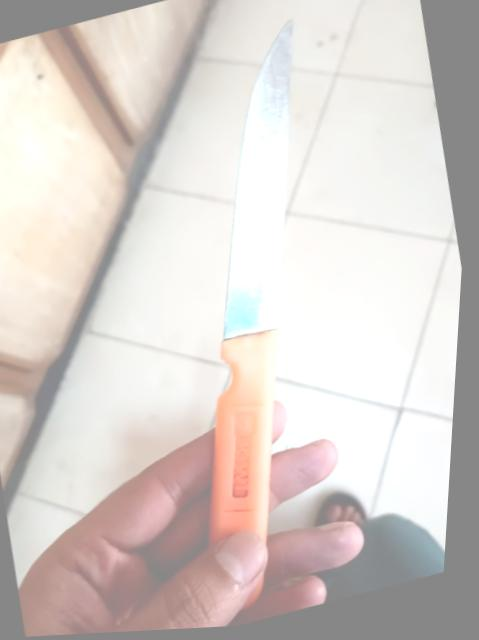Knife: (209, 22, 294, 543)
